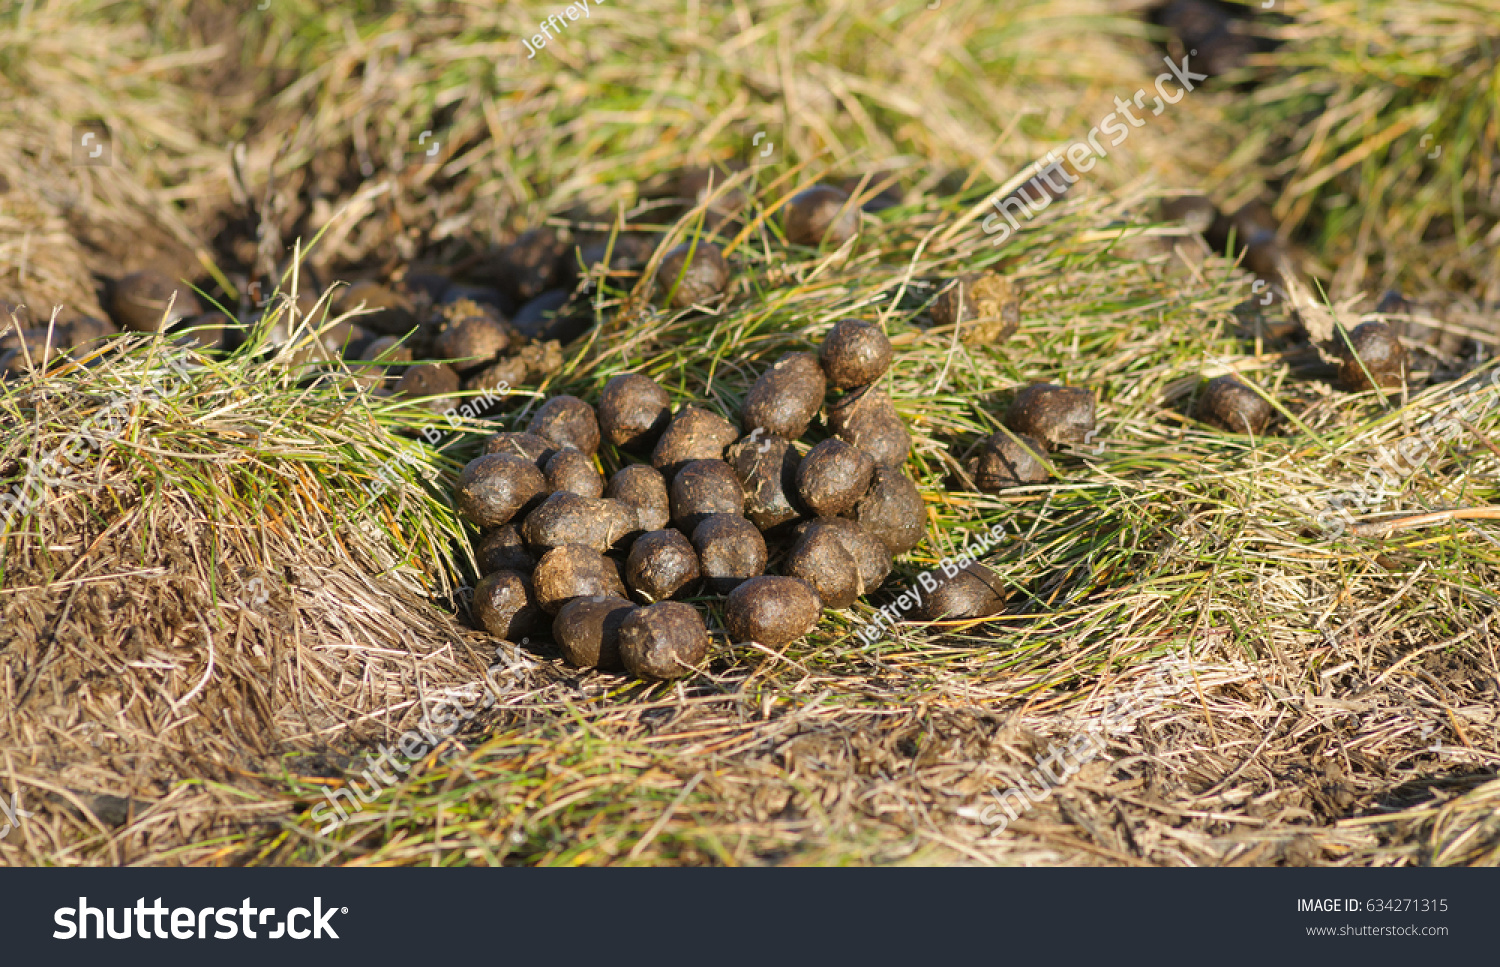Elk: (452, 370, 892, 653)
